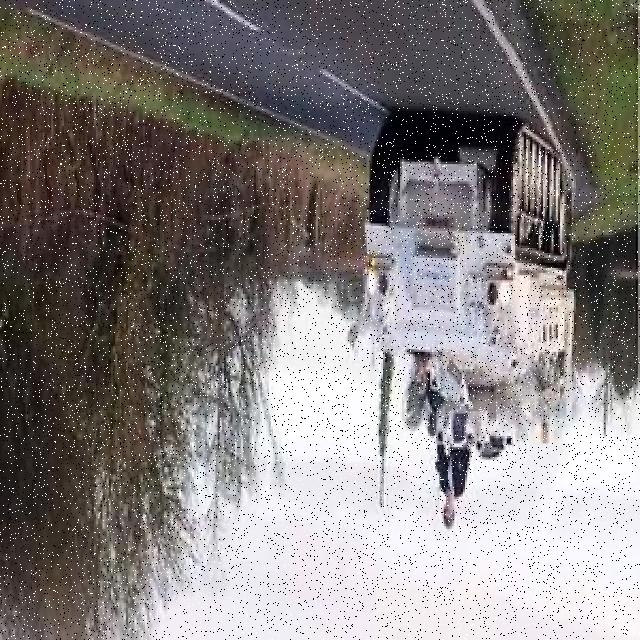MIL_MBT: (371, 128, 569, 444)
